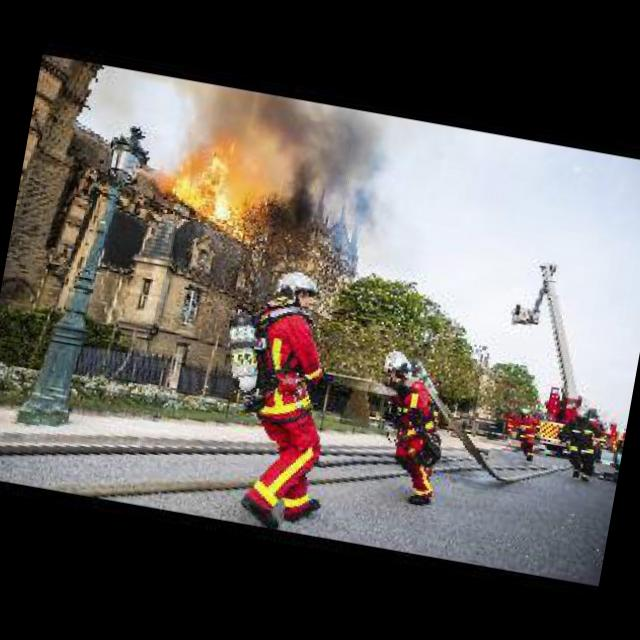fire: (158, 126, 261, 230)
smoke: (253, 95, 417, 246)
